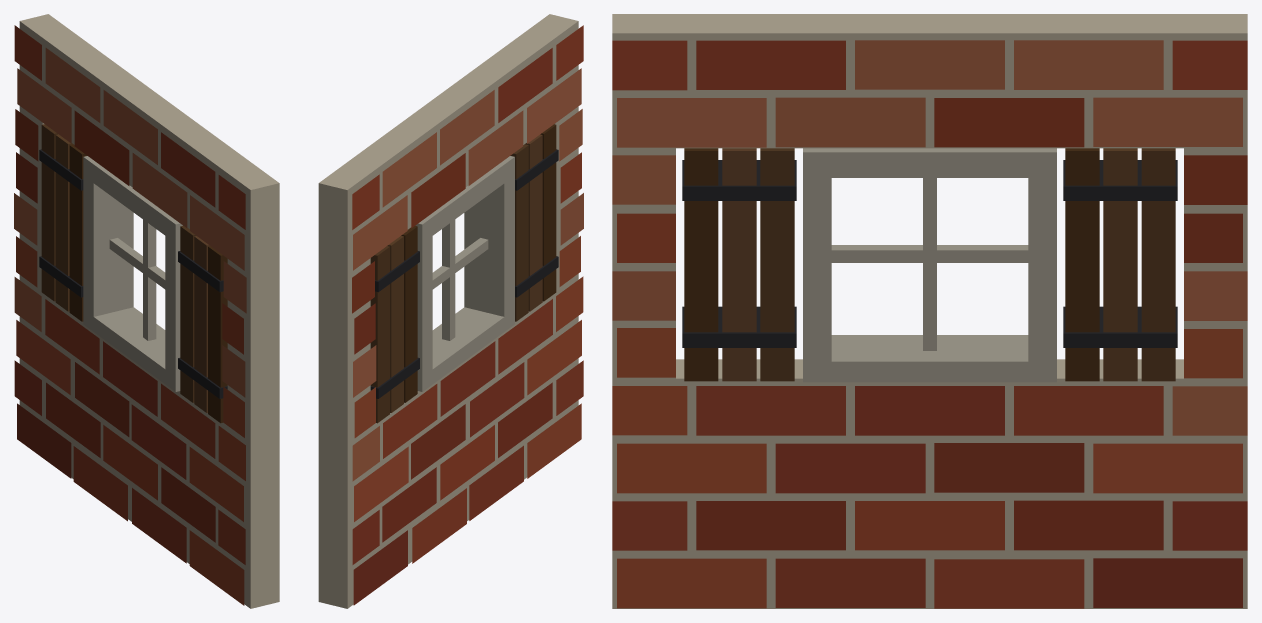
Rendered from wall-brick-window-shutters.glb.
3 renders of one model, left to right at view 1: azimuth 30°, elevation 25°; view 2: azimuth 150°, elevation 25°; view 3: azimuth 270°, elevation 25°, orthographic. The views are drawn at different scales.
Visible parts, largest first — view 1: wall-brick-window-shutters; view 2: wall-brick-window-shutters; view 3: wall-brick-window-shutters.
Part boxes in pixels (x1,y1,x2,y2): wall-brick-window-shutters: [14, 14, 279, 608]; wall-brick-window-shutters: [318, 14, 583, 608]; wall-brick-window-shutters: [612, 14, 1247, 608].
Bounding box in the file's own units: 0.1 × 1 × 1.
